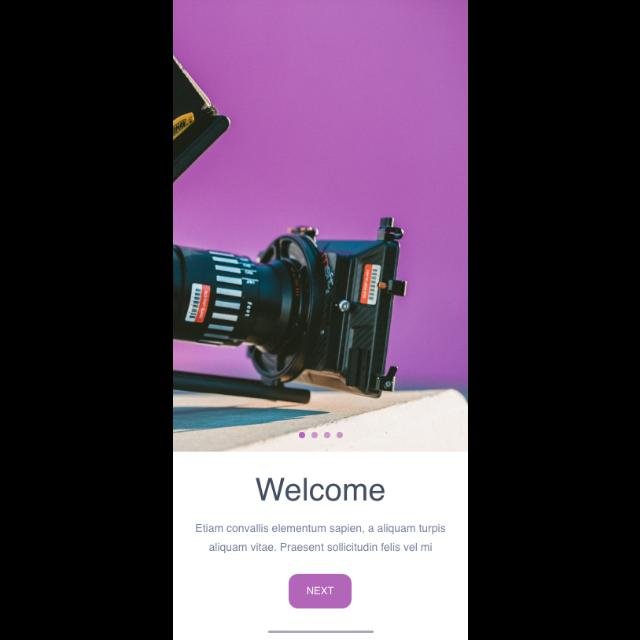image: (173, 1, 467, 451)
pageindicator: (298, 431, 344, 439)
text: (195, 524, 445, 554), (255, 476, 385, 502)
textbutton: (288, 574, 352, 608)
